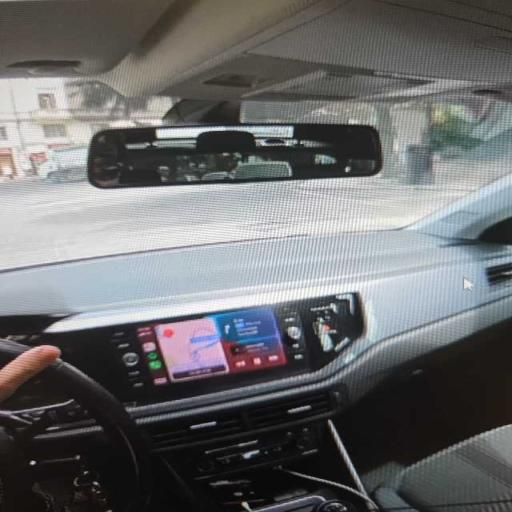car: (0, 0, 511, 511), (38, 146, 87, 182)
lane: (0, 181, 455, 268)
person: (0, 346, 60, 402)
